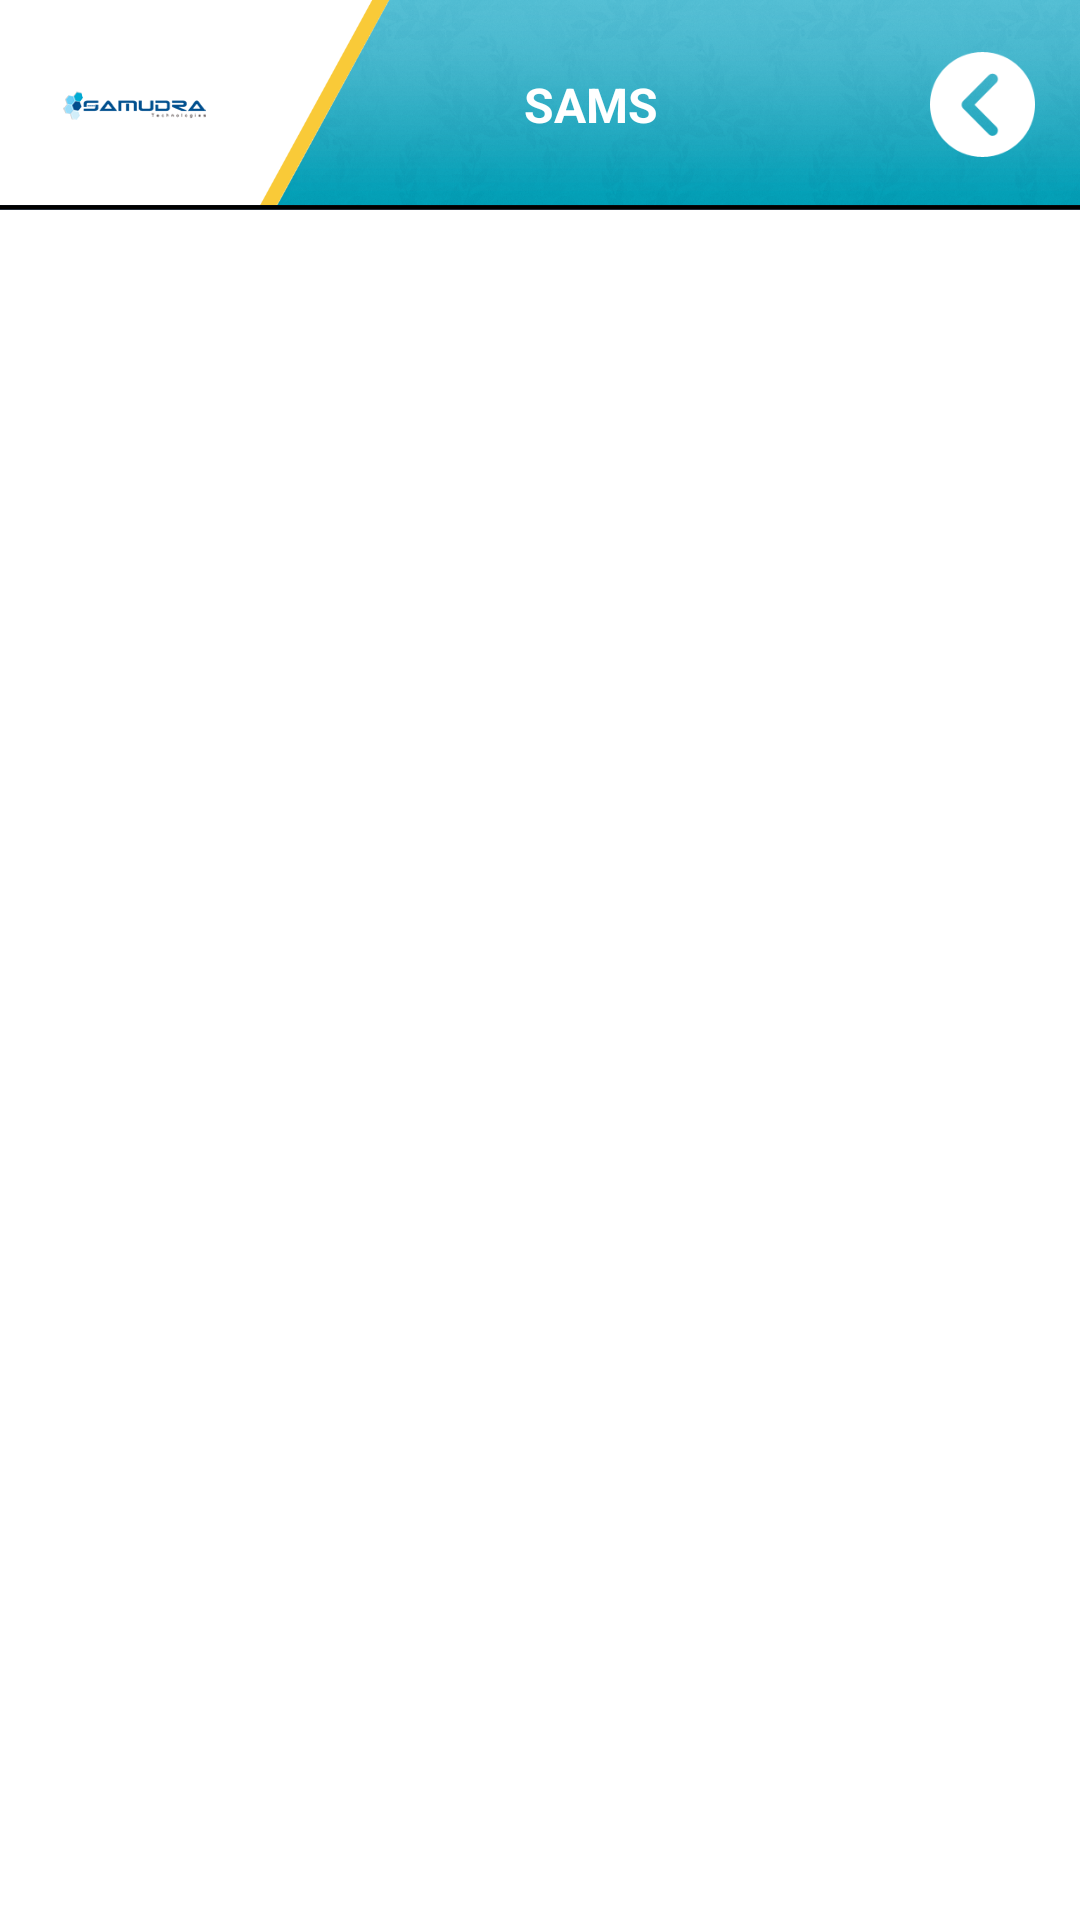

Named icons in this screenshot (1080 x 1920) and their centers, (x=x, y=y):
back: (x=982, y=104)
